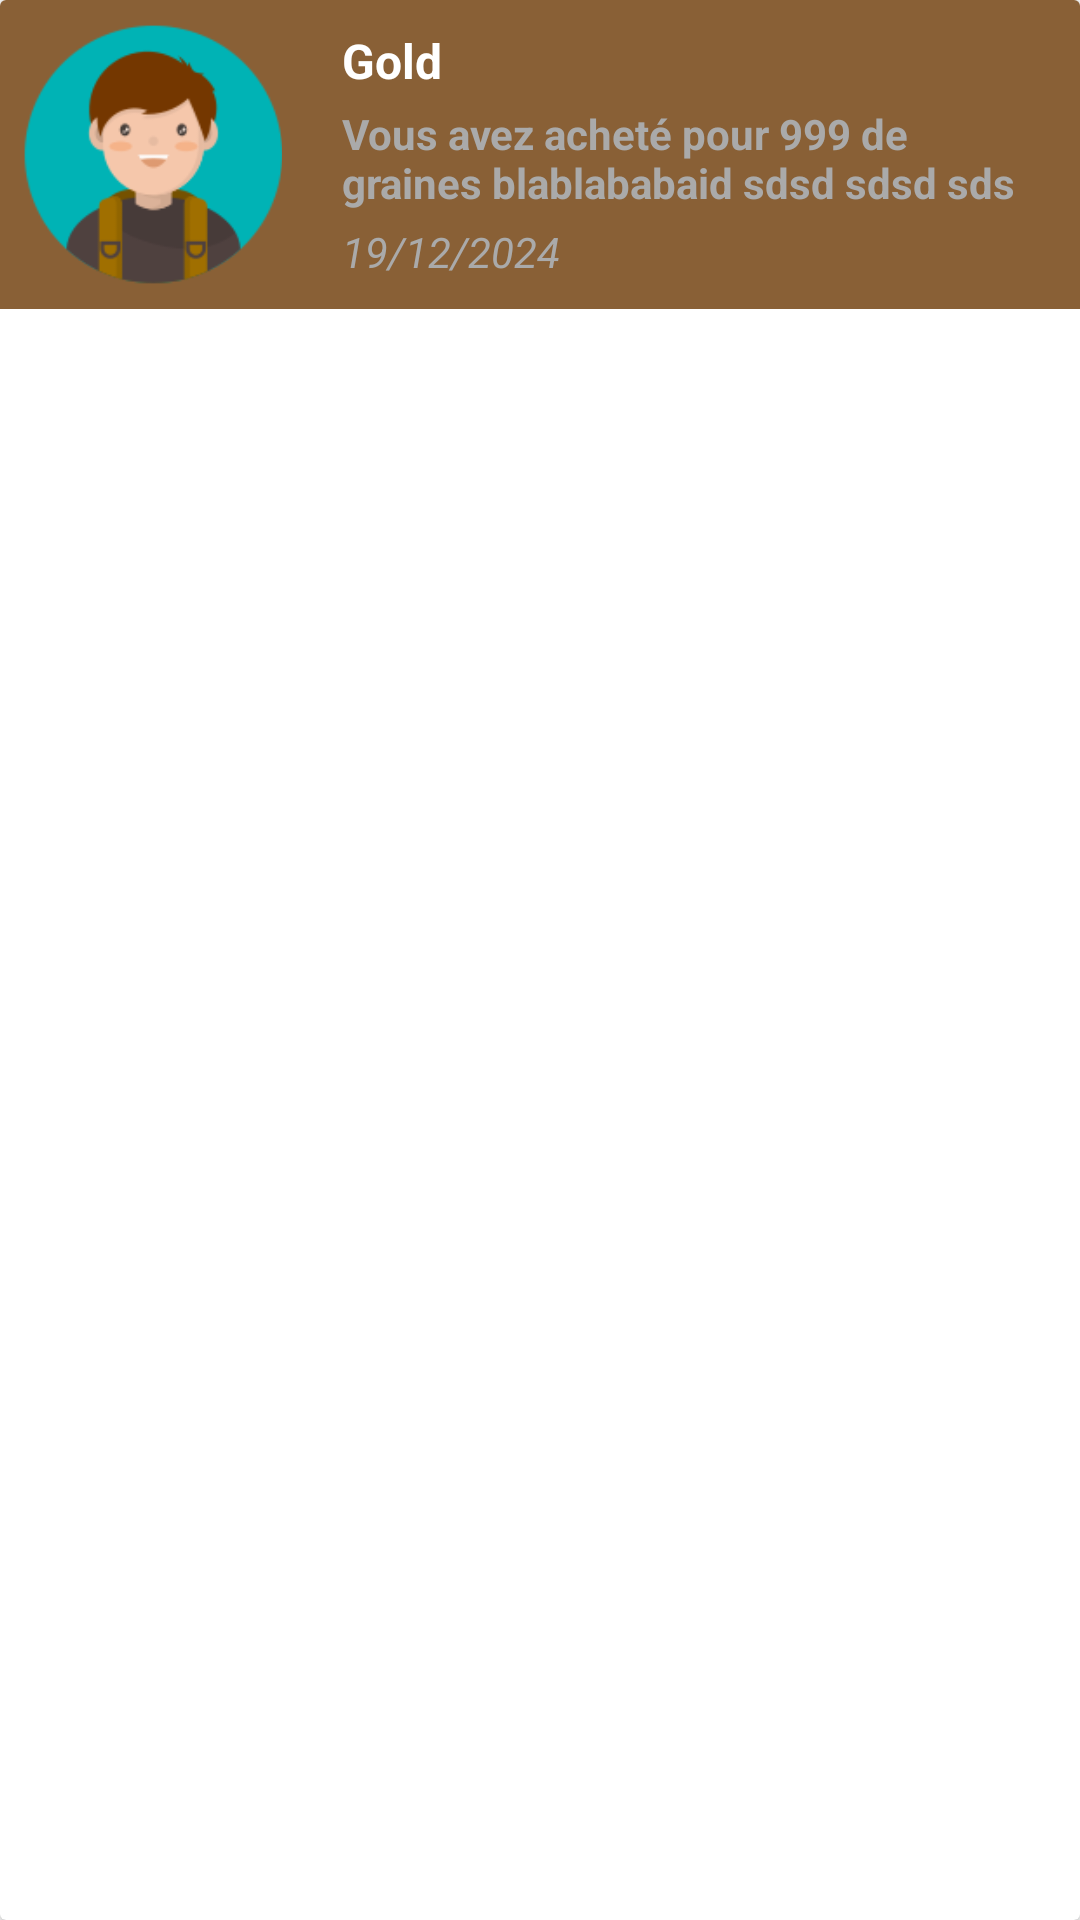

Screen size 1080 x 1920. Icon name, then its box in pixels as rect(x1, y1, x2, y2):
User Image: rect(24, 25, 282, 283)
